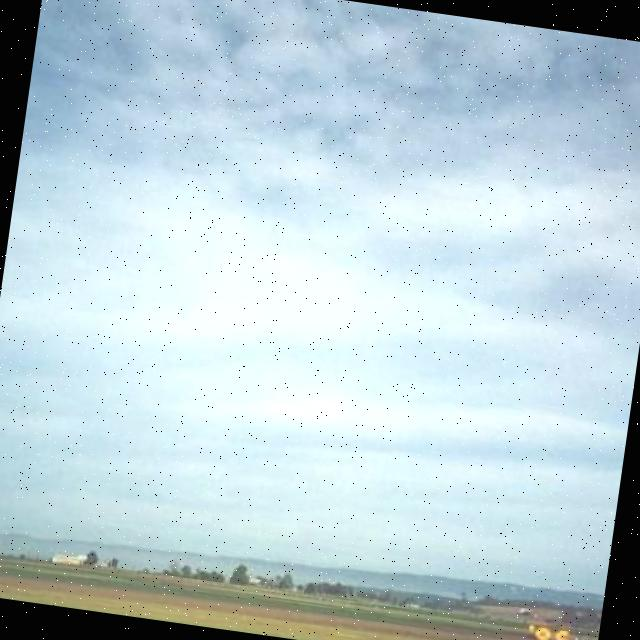Cs: (1, 1, 640, 480)
